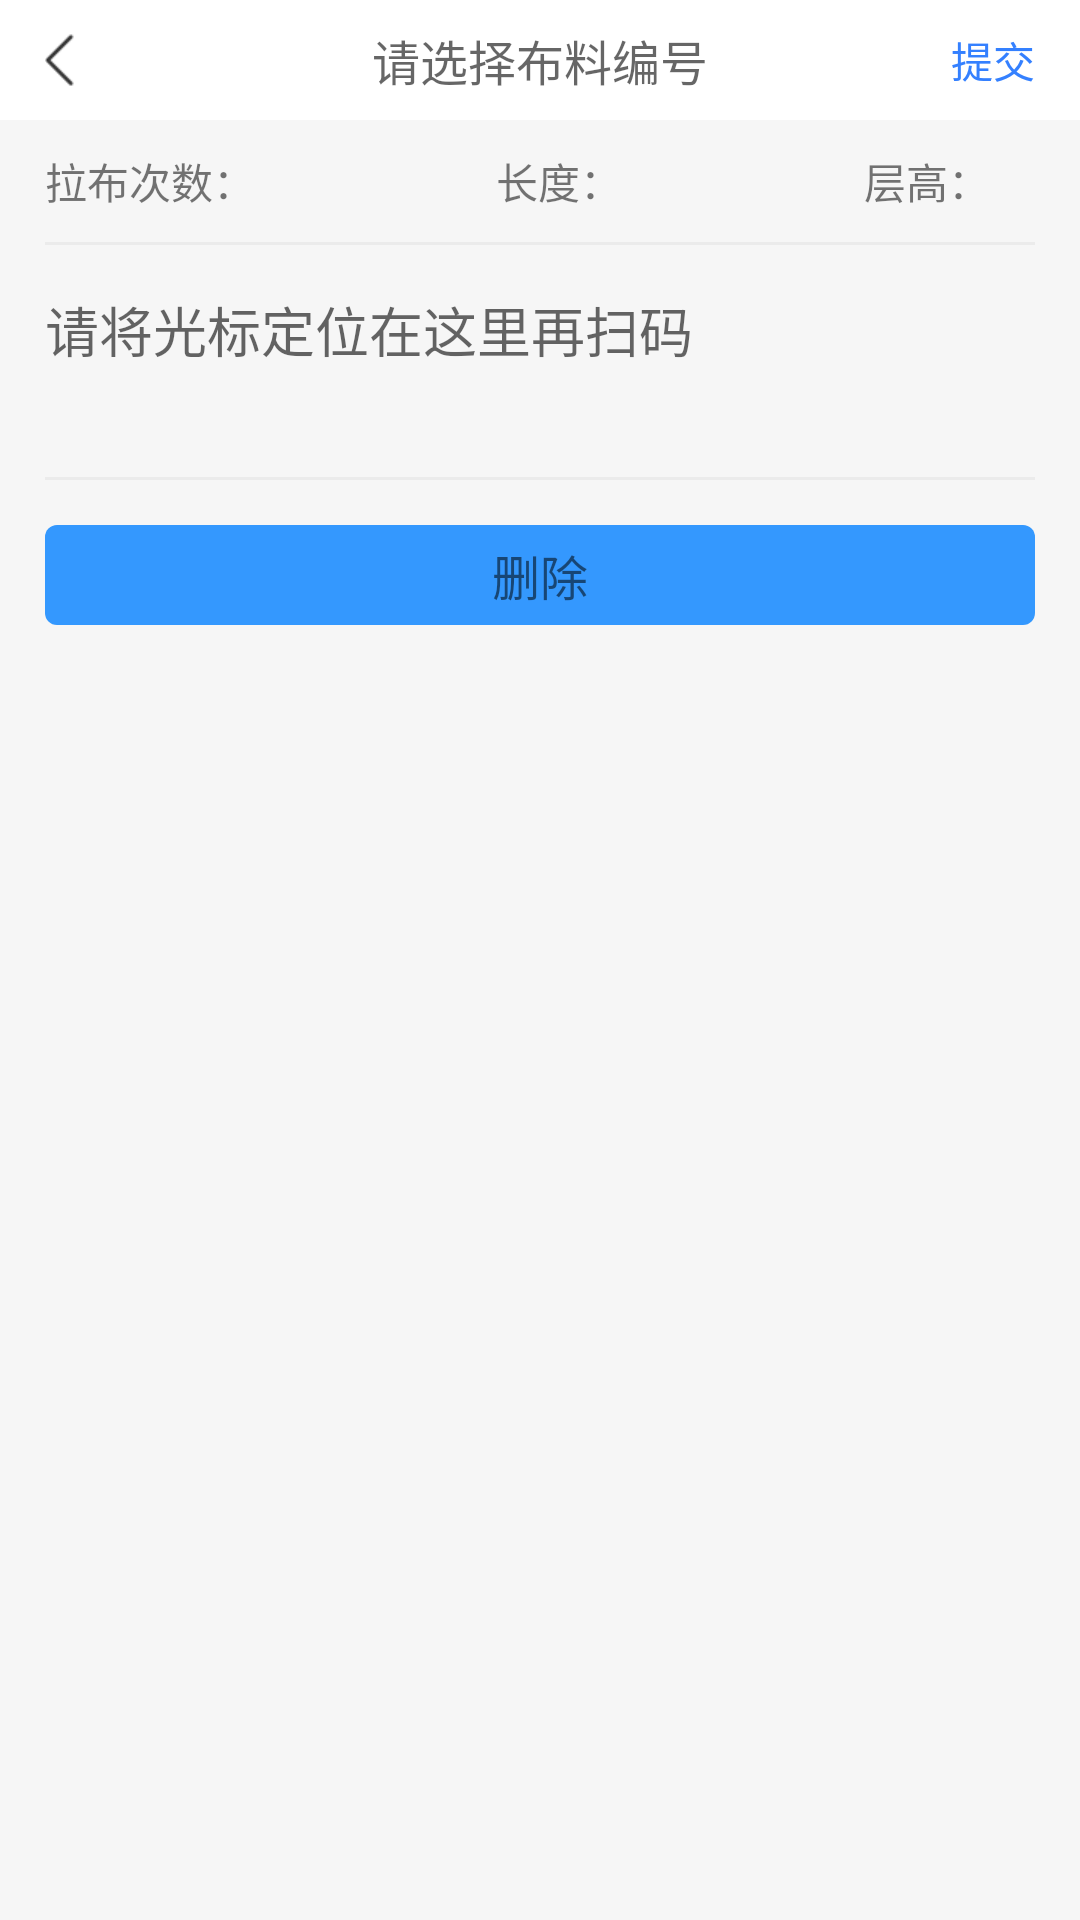

Where to tap for icons on this 1080px x 1920px app screen, as (x=x, y=y):
back: (x=59, y=60)
